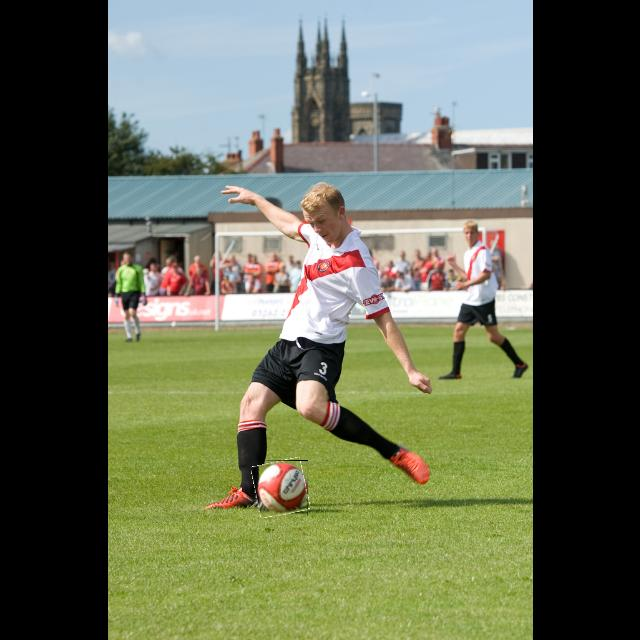Football: (254, 460, 308, 516)
